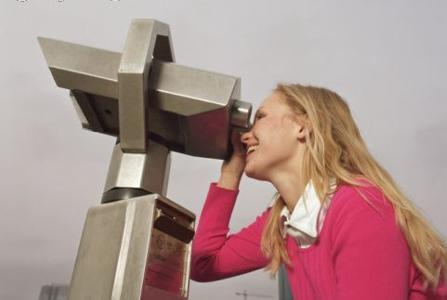person: (190, 85, 446, 299)
